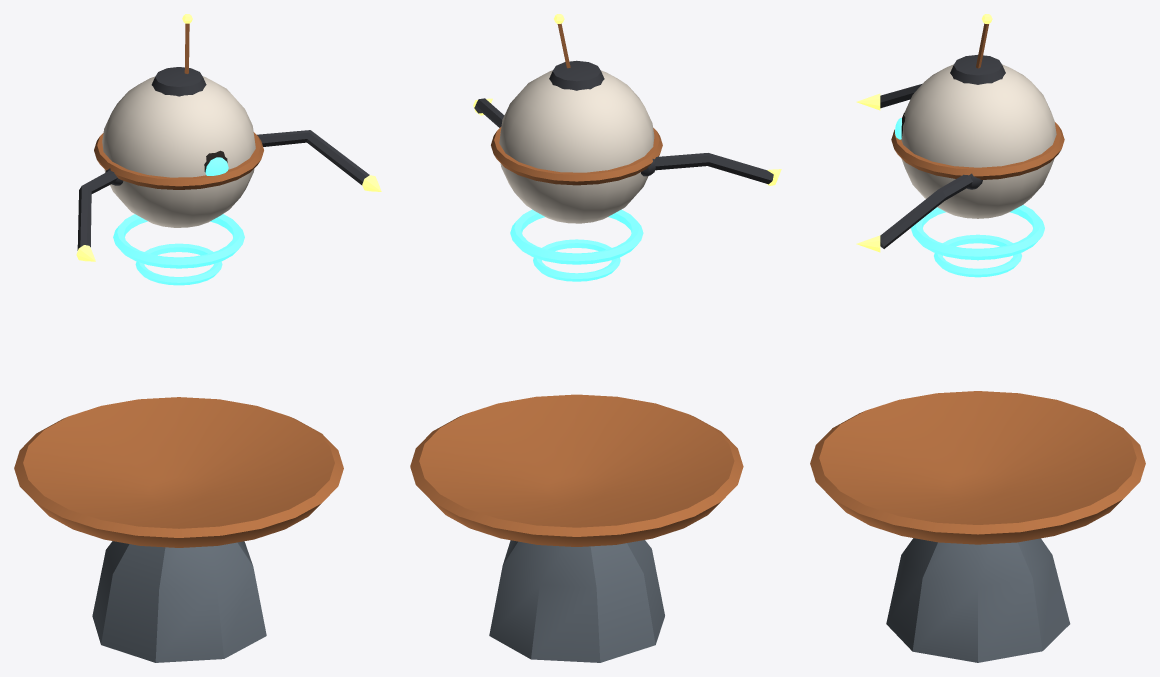
The model's file is deco_repair_drone_active.fbx.
3 views of the same model, side by side, from view 1: azimuth 30°, elevation 25°; view 2: azimuth 150°, elevation 25°; view 3: azimuth 270°, elevation 25° (orthographic).
Parts seen in each view (by area): view 1: RepairDrone_Active_Dish, RepairDrone_Active_Body, RepairDrone_Active_Pedestal, RepairDrone_Active_HoverRings, RepairDrone_Active_ArmR, RepairDrone_Active_ArmL; view 2: RepairDrone_Active_Dish, RepairDrone_Active_Body, RepairDrone_Active_Pedestal, RepairDrone_Active_HoverRings, RepairDrone_Active_ArmL; view 3: RepairDrone_Active_Dish, RepairDrone_Active_Body, RepairDrone_Active_Pedestal, RepairDrone_Active_HoverRings, RepairDrone_Active_ArmR, RepairDrone_Active_ArmL.
Part boxes in pixels (x1,y1,x2,y2): RepairDrone_Active_Dish: [14, 397, 343, 547]; RepairDrone_Active_Body: [94, 14, 263, 227]; RepairDrone_Active_Pedestal: [92, 541, 266, 662]; RepairDrone_Active_HoverRings: [113, 214, 244, 285]; RepairDrone_Active_ArmR: [257, 130, 381, 191]; RepairDrone_Active_ArmL: [76, 168, 123, 261]; RepairDrone_Active_Dish: [410, 394, 743, 546]; RepairDrone_Active_Body: [491, 14, 662, 223]; RepairDrone_Active_Pedestal: [489, 540, 664, 662]; RepairDrone_Active_HoverRings: [510, 209, 643, 281]; RepairDrone_Active_ArmL: [641, 153, 781, 185]; RepairDrone_Active_Dish: [810, 391, 1145, 544]; RepairDrone_Active_Body: [891, 14, 1064, 218]; RepairDrone_Active_Pedestal: [886, 538, 1070, 662]; RepairDrone_Active_HoverRings: [911, 204, 1044, 277]; RepairDrone_Active_ArmR: [856, 173, 982, 252]; RepairDrone_Active_ArmL: [856, 83, 922, 110].
Bounding box in the file's own units: 116 × 223 × 110.
